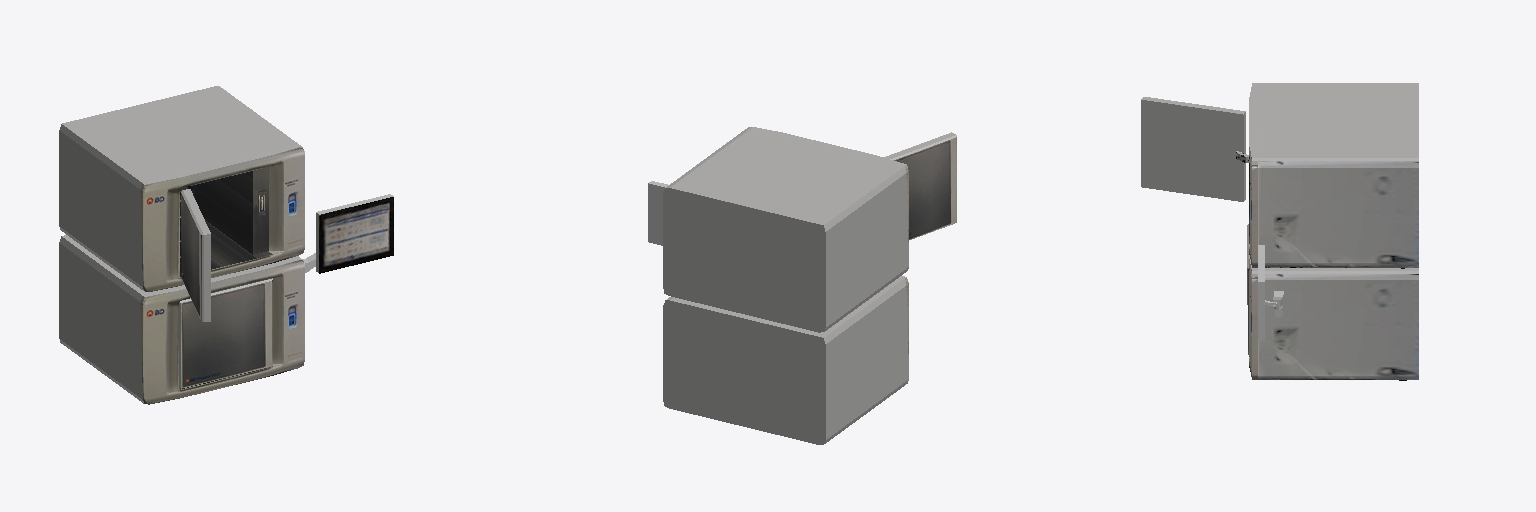
3 renders of one model, left to right at view 1: azimuth 30°, elevation 25°; view 2: azimuth 150°, elevation 25°; view 3: azimuth 270°, elevation 25°, orthographic.
Parts seen in each view (by area): view 1: default; view 2: default; view 3: default.
Part boxes in pixels (x1,y1,x2,y2): default: (59,86,393,404); default: (648,127,956,444); default: (1141,83,1418,380).
Bounding box in the file's own units: 1.28 × 1.07 × 1.21.
8 materials, 1 textured.